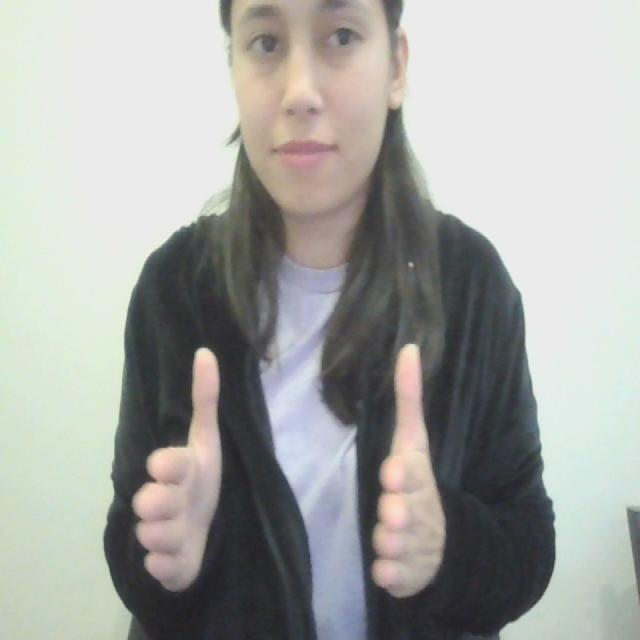Nasil: (128, 333, 466, 616)
